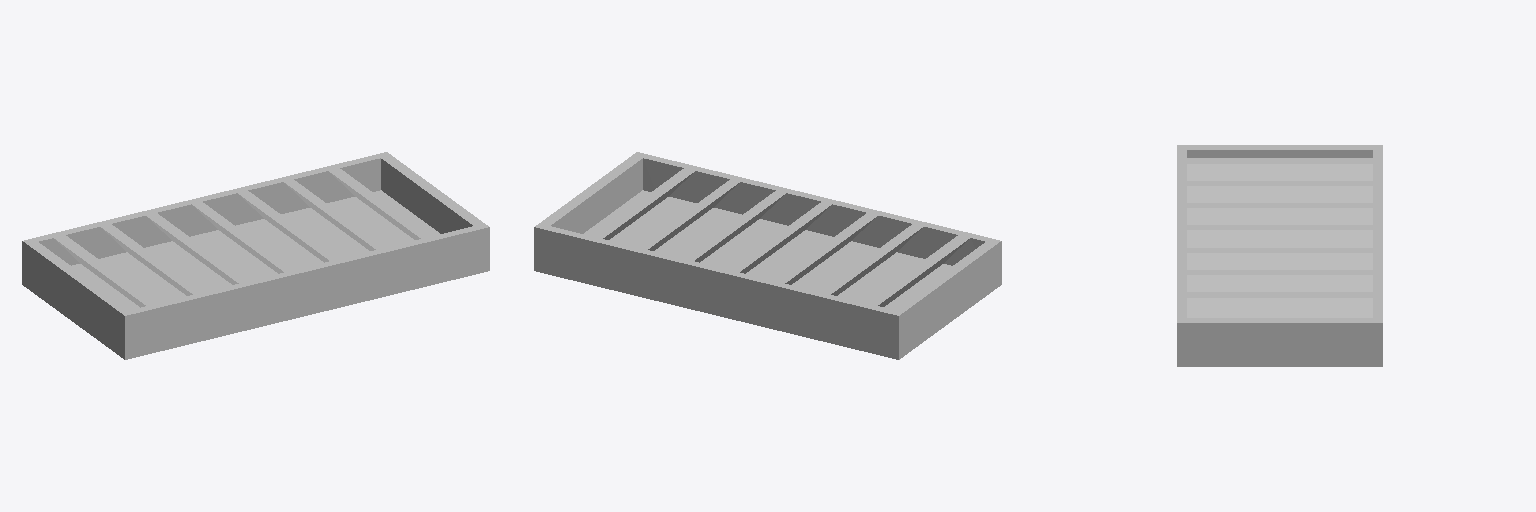
File: Vent.obj
3 renders of one model, left to right at view 1: azimuth 30°, elevation 25°; view 2: azimuth 150°, elevation 25°; view 3: azimuth 270°, elevation 25°, orthographic.
Parts seen in each view (by area): view 1: pCube1; view 2: pCube1; view 3: pCube1.
Boxes of the visible parts, x1,y1,x2,y2 form: pCube1: [22, 152, 489, 359]; pCube1: [534, 152, 1001, 359]; pCube1: [1177, 145, 1382, 366].
Bounding box in the file's own units: 8 × 0.9245 × 3.91.